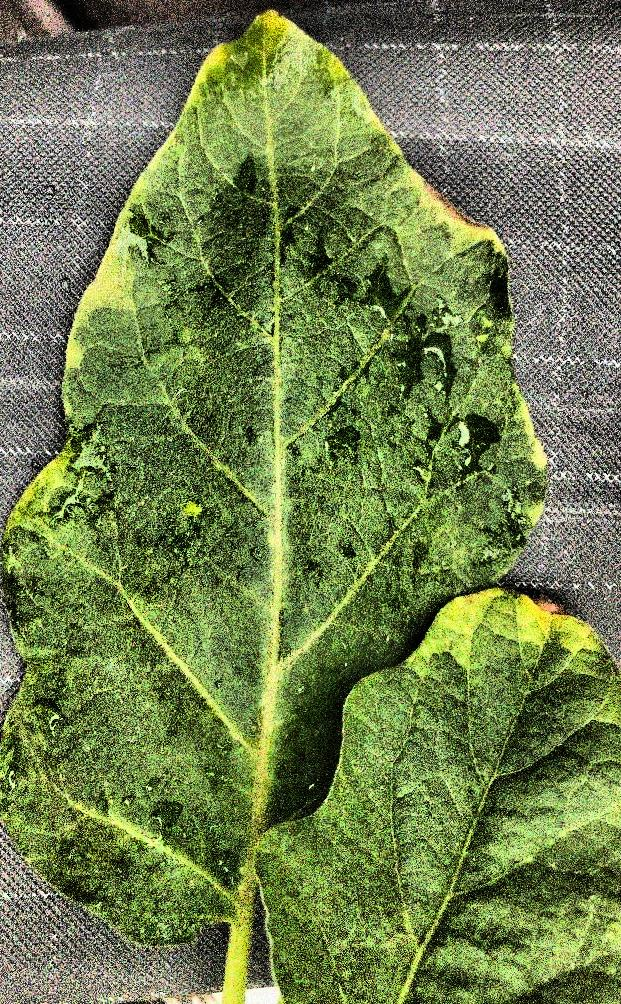Non-critical Stress: (1, 1, 621, 1004)
